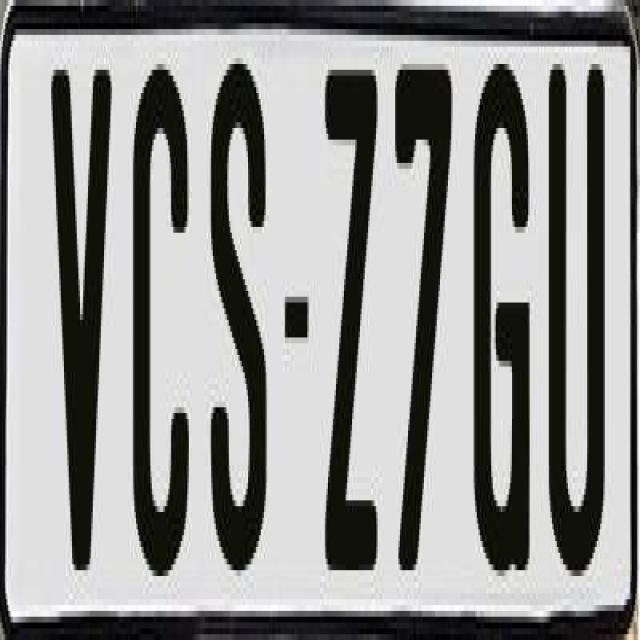7: (392, 52, 456, 558)
C: (132, 52, 198, 576)
G: (474, 58, 532, 605)
S: (208, 47, 267, 564)
U: (549, 52, 605, 576)
V: (50, 70, 116, 570)
Z: (323, 58, 384, 559)
